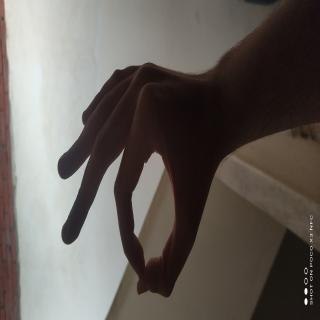Space: (3, 109, 129, 320)
